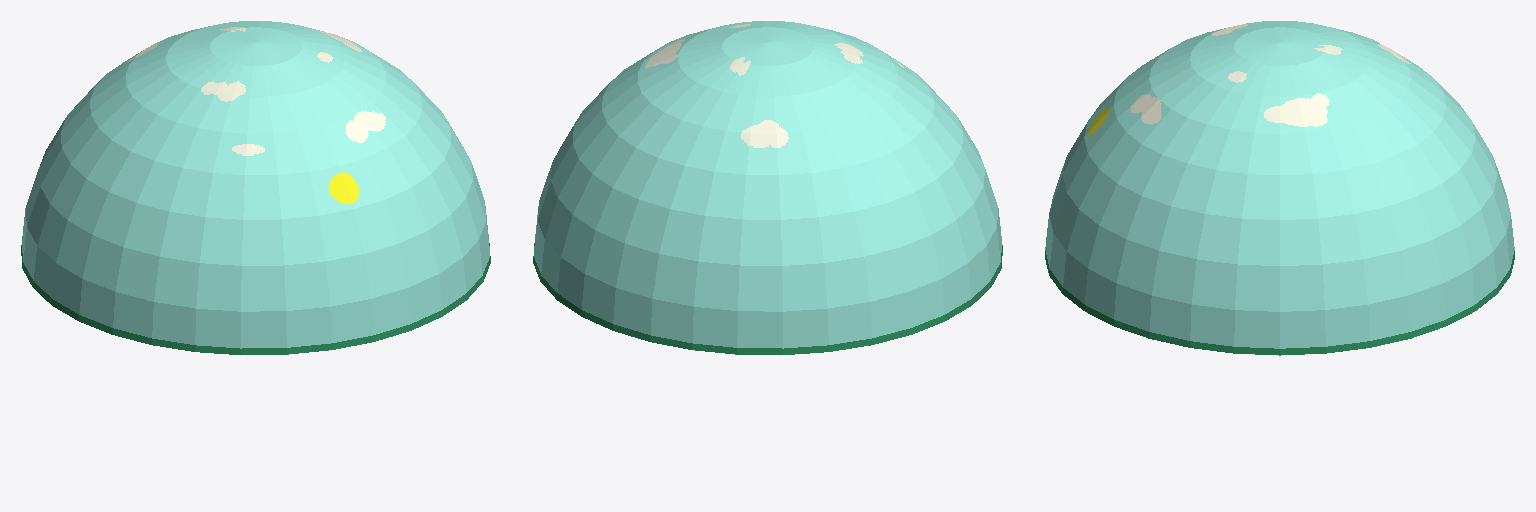
The picture shows the model from 3 angles: view 1: azimuth 30°, elevation 25°; view 2: azimuth 150°, elevation 25°; view 3: azimuth 270°, elevation 25°; orthographic projection.
Parts seen in each view (by area): view 1: Sphere; view 2: Sphere; view 3: Sphere.
Boxes of the visible parts, box(x1,y1,x2,y2) form: Sphere: box(21, 21, 490, 354); Sphere: box(533, 21, 1002, 354); Sphere: box(1045, 21, 1514, 355).
Bounding box in the file's own units: 400 × 400 × 400.
1 materials, 1 textured.